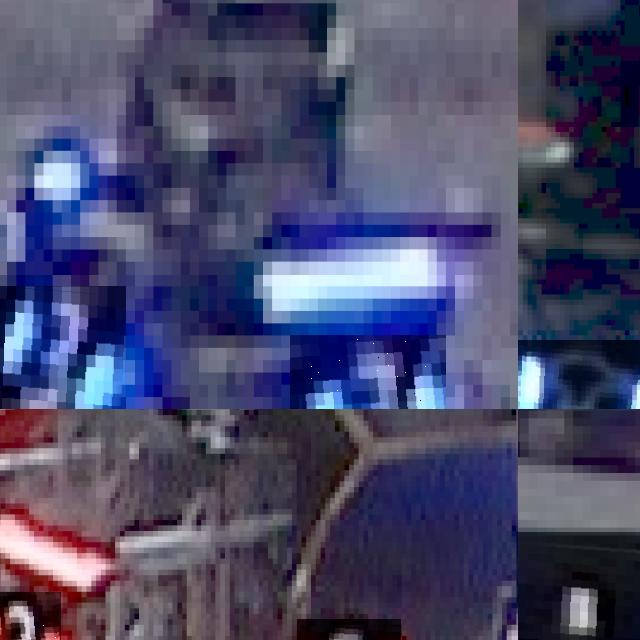B1: (518, 531, 640, 640)
B3: (0, 286, 126, 409), (290, 335, 445, 409)
Bs: (518, 340, 640, 409)
R2: (0, 591, 62, 640), (296, 619, 401, 640)
